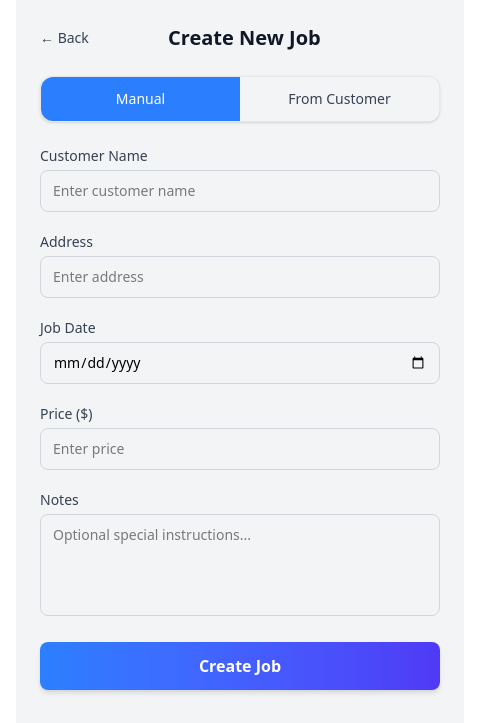
NewJobPage › shows validation errors when fields are missing (manual tab)
What coordinates should you click on to do the following:
click the button "Create Job"
I would click on:
 (240, 666)
Its box is top-left (40, 642), bottom-right (440, 690).
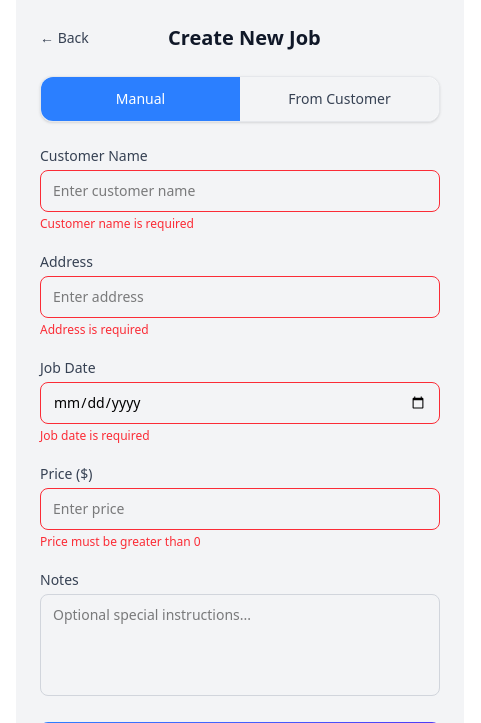
Expected: the text "Customer name is required" is shown, top-left (40, 215), bottom-right (194, 232)
Expected: the text "Address is required" is shown, top-left (40, 321), bottom-right (149, 338)
Expected: the text "Job date is required" is shown, top-left (40, 427), bottom-right (150, 444)
